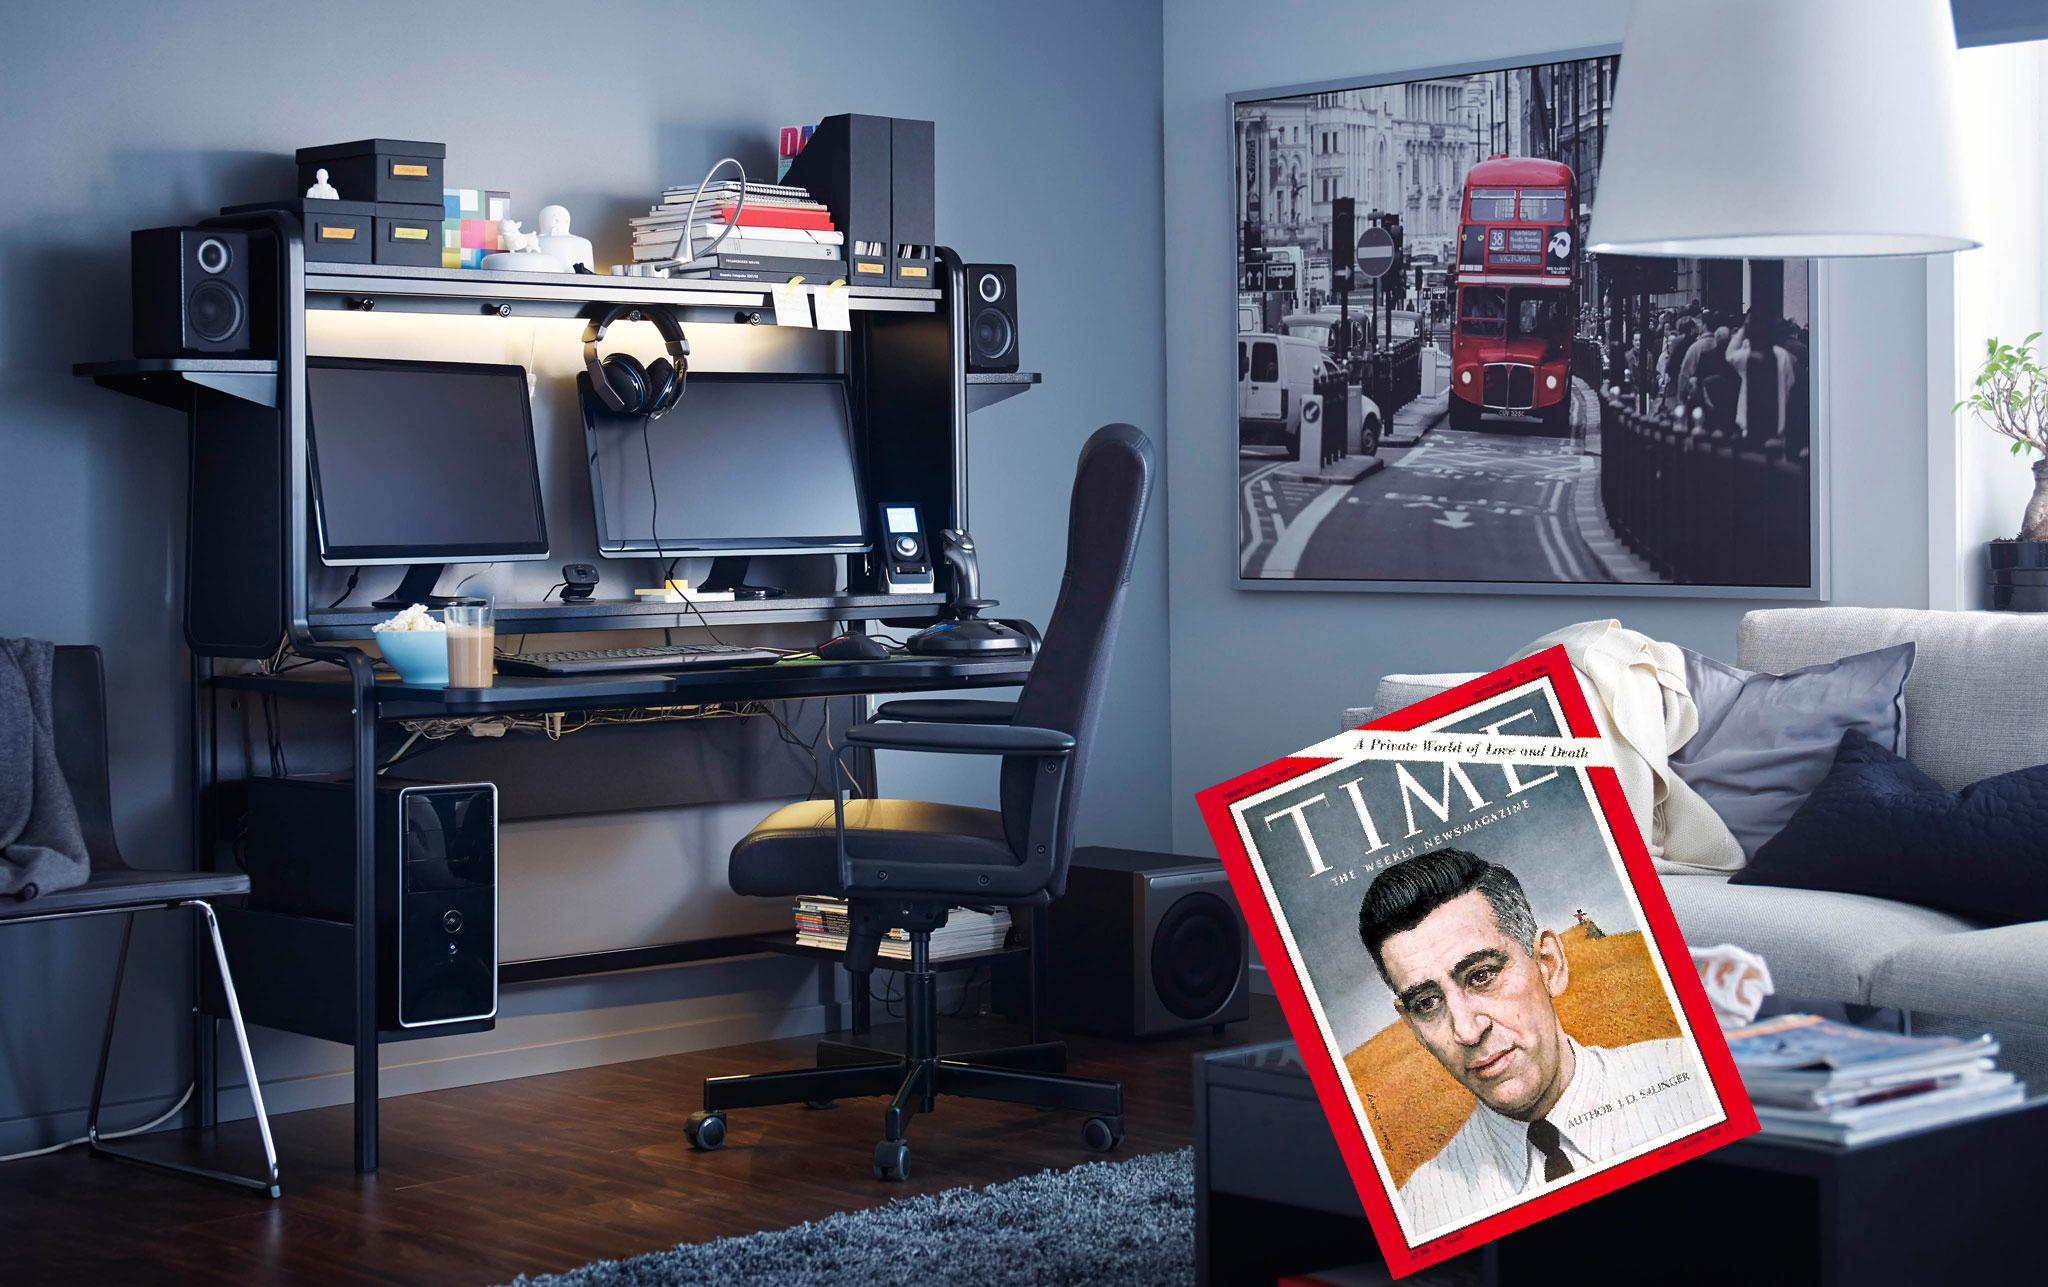times: (1186, 632, 1768, 1287)
